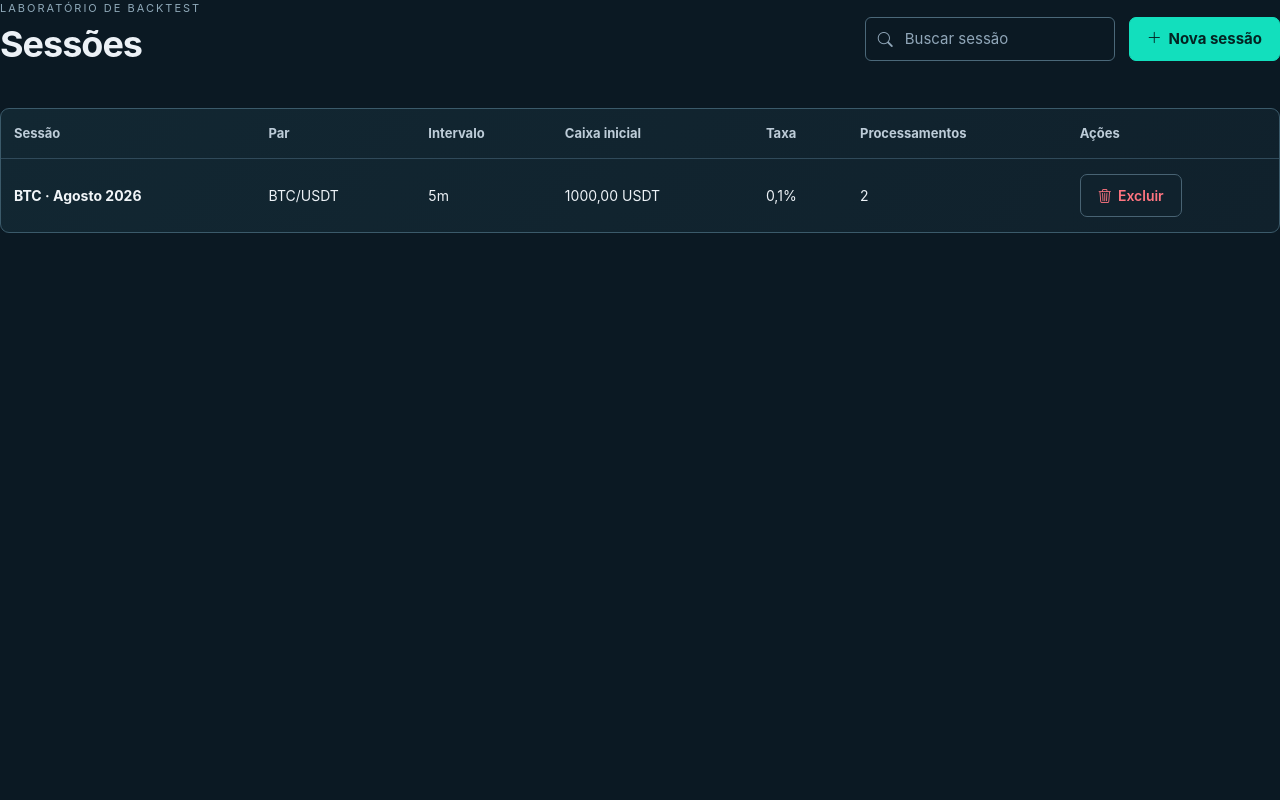
Test: falhas de consulta mantêm a exclusão bloqueada e permitem tentar novamente
The width and height of the screenshot is (1280, 800).
Click the button "Excluir". click: x=1131, y=196
box: x1=1080 y1=174 x2=1182 y2=217
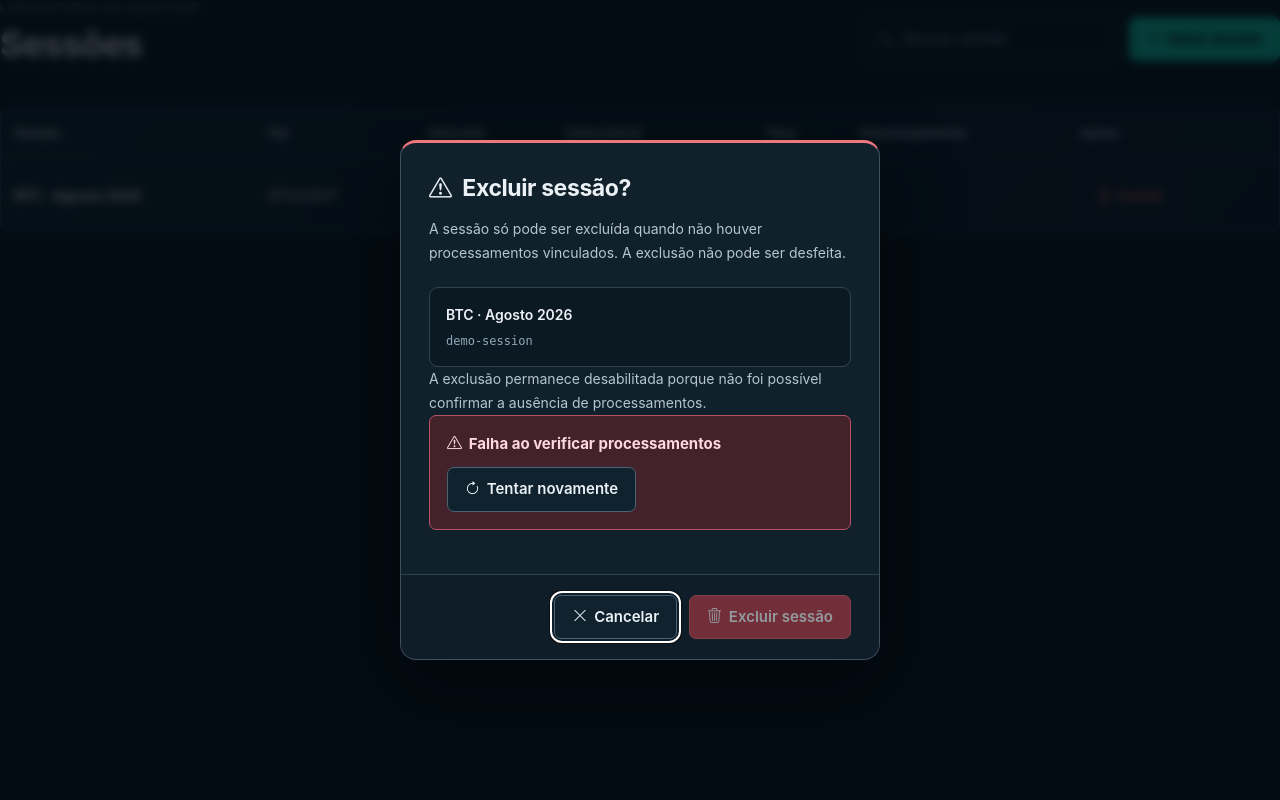
Now the message shows "Falha ao verificar processamentos", box x1=469 y1=434 x2=721 y2=453
Now the button "Excluir sessão" is disabled, box x1=689 y1=595 x2=851 y2=639
Click the button "Tentar novamente". click: x=542, y=489
box: x1=447 y1=467 x2=636 y2=512
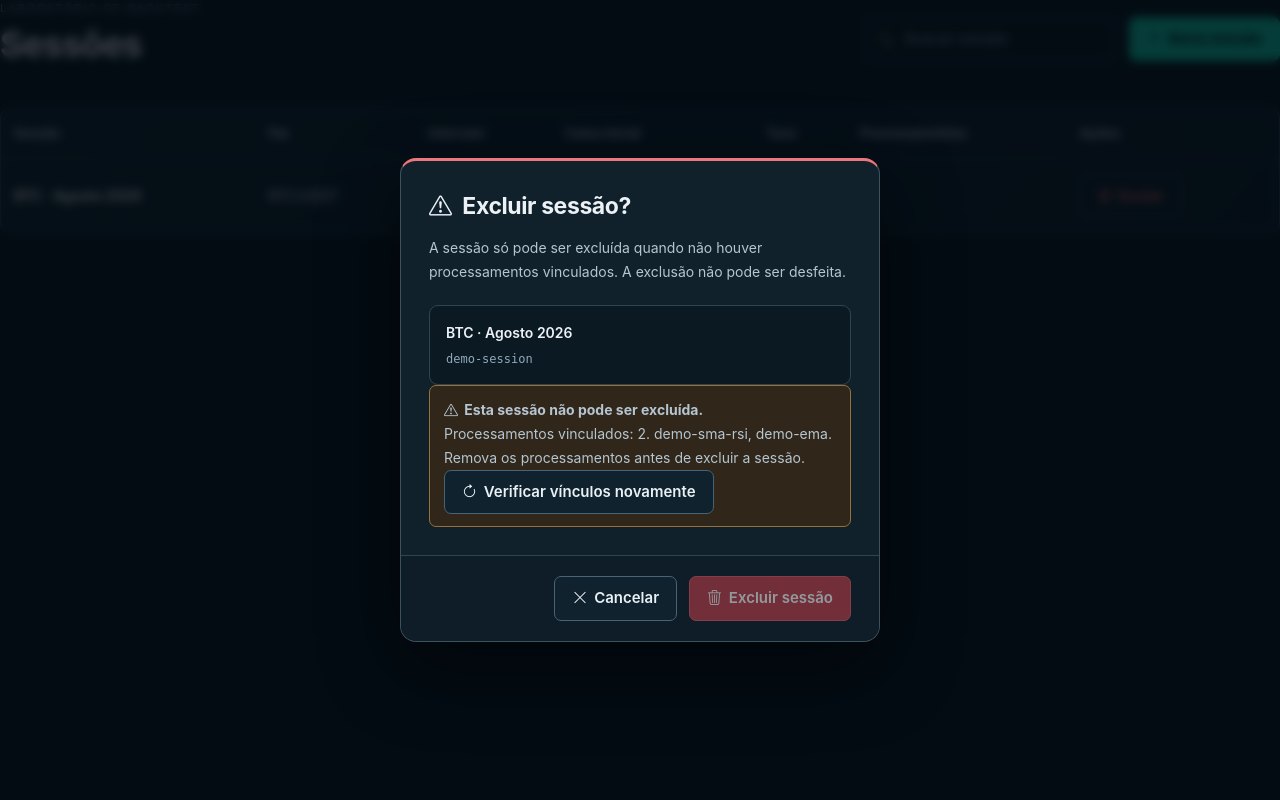
Now the message shows "Processamentos vinculados: 2", box x1=429 y1=385 x2=851 y2=527
